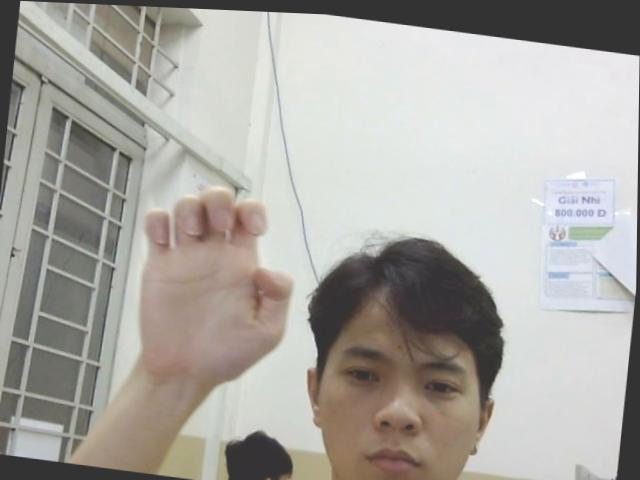E: (128, 173, 303, 393)
